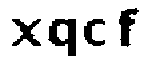c: (80, 14, 109, 51)
f: (113, 2, 142, 49)
q: (45, 16, 79, 60)
x: (6, 14, 42, 50)
